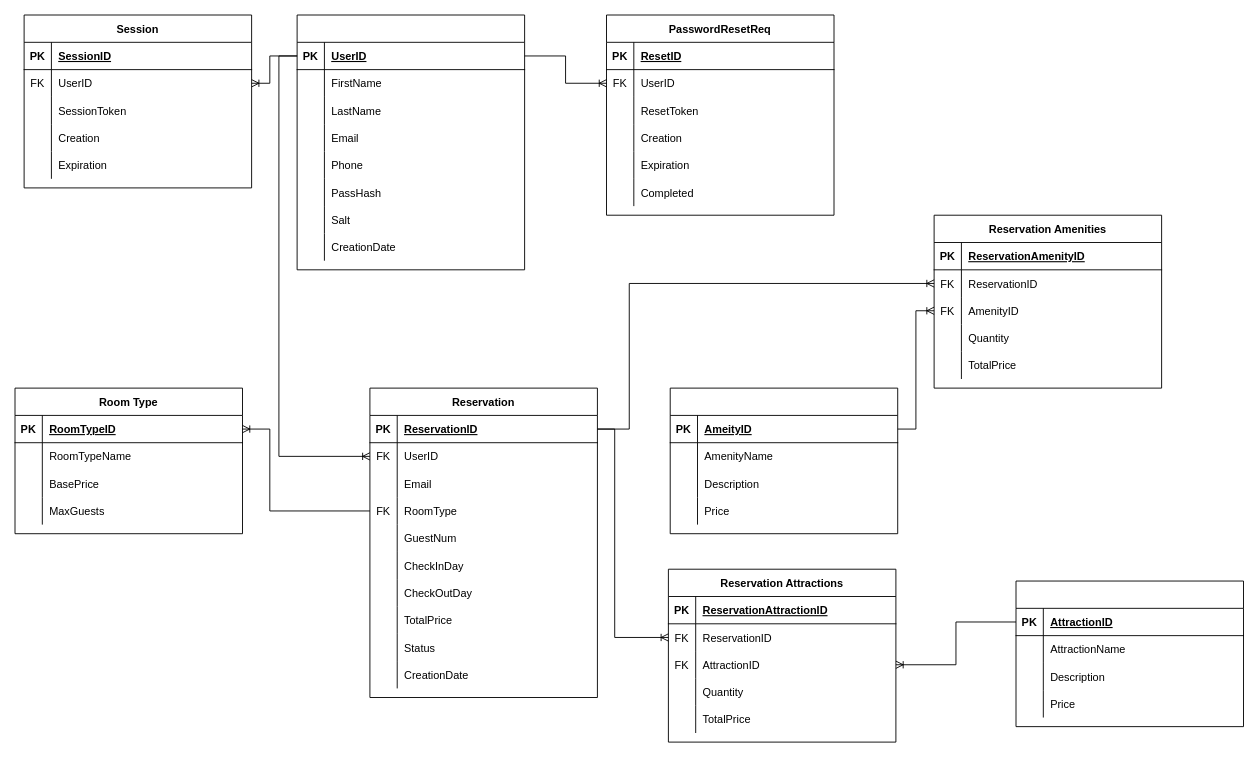
Some shapes in this 1259 by 757 pixel diagram are drawn without their labels. The shapes that lost their labels are listed below. From the top down, each one's box as (x1, y1, x2, y2) in pixels, then its label:
(296, 14, 525, 270): Registered Users
(669, 387, 898, 534): Amenities
(1015, 580, 1244, 727): Attractions
